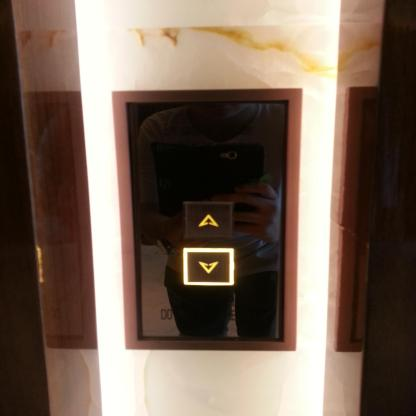down: (183, 246, 235, 286)
up: (184, 201, 232, 237)
